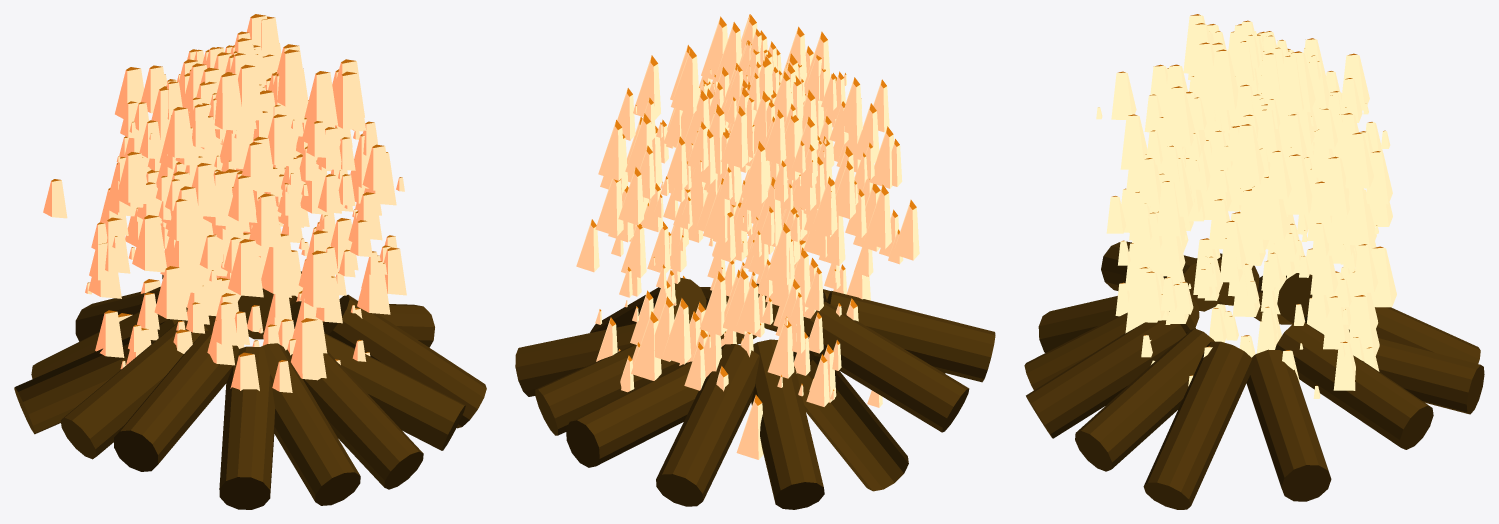
The model's file is bonfire_export_0003.glb.
3 views of the same model, side by side, from view 1: azimuth 30°, elevation 25°; view 2: azimuth 150°, elevation 25°; view 3: azimuth 270°, elevation 25° (orthographic).
Visible parts, largest first — view 1: static_bonfire; view 2: static_bonfire; view 3: static_bonfire.
Boxes of the visible parts, x1=… form: static_bonfire: x1=14, y1=14, x2=486, y2=509; static_bonfire: x1=515, y1=14, x2=995, y2=509; static_bonfire: x1=1024, y1=14, x2=1484, y2=509.
Bounding box in the file's own units: 2.03 × 1.97 × 2.04.
